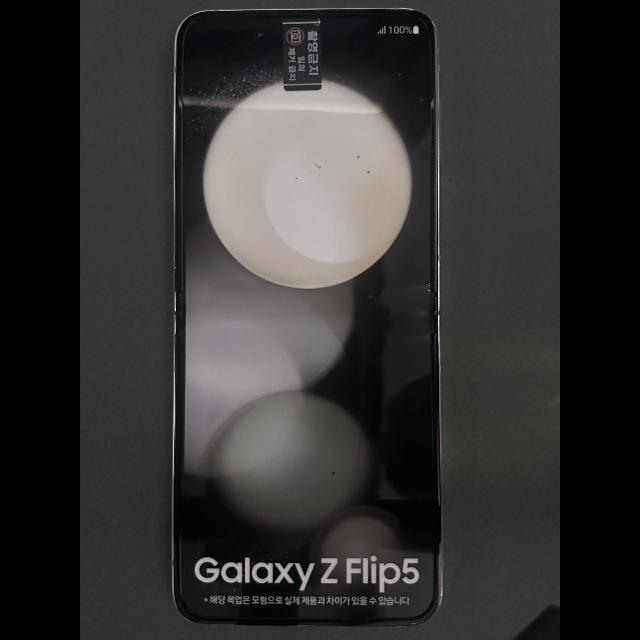phone: (171, 7, 443, 627)
sticker: (282, 17, 322, 91)
